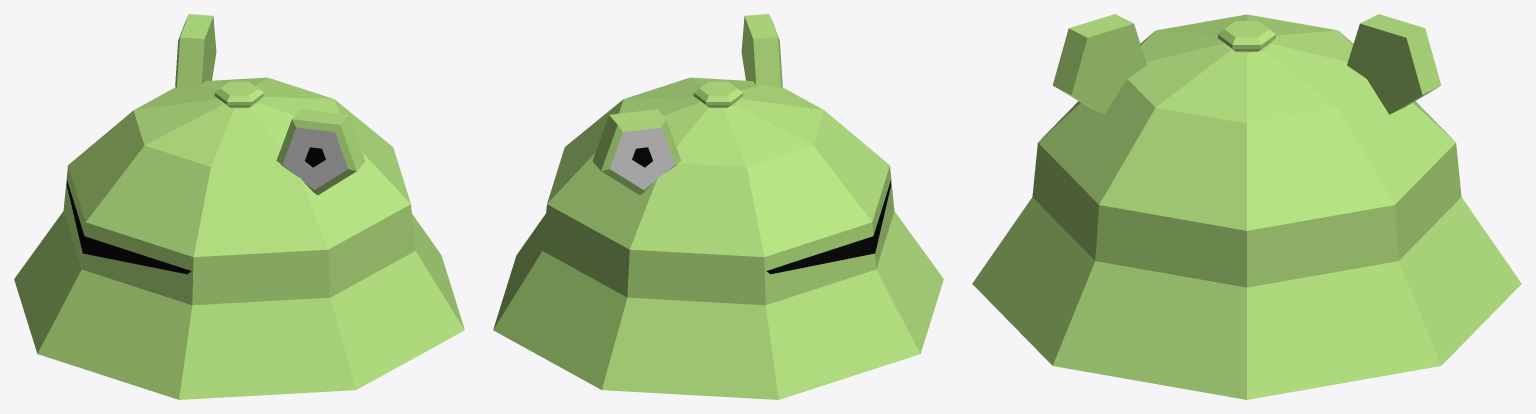
The model's file is frog-hat-j-toastie_IBL2UX2eOZ.glb.
3 renders of one model, left to right at view 1: azimuth 30°, elevation 25°; view 2: azimuth 150°, elevation 25°; view 3: azimuth 270°, elevation 25°, orthographic. The views are drawn at different scales.
Parts seen in each view (by area): view 1: FrogHat_Cylinder; view 2: FrogHat_Cylinder; view 3: FrogHat_Cylinder.
Boxes of the visible parts, x1,y1,x2,y2 form: FrogHat_Cylinder: (14,14,464,399); FrogHat_Cylinder: (493,14,943,399); FrogHat_Cylinder: (972,14,1521,399).
Size of the model in its own units: 0.934 by 0.5061 by 0.934.
